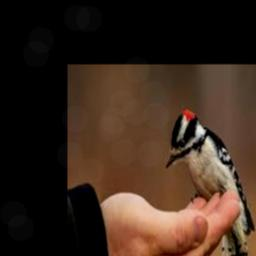Woodpecker: (165, 107, 254, 256)
